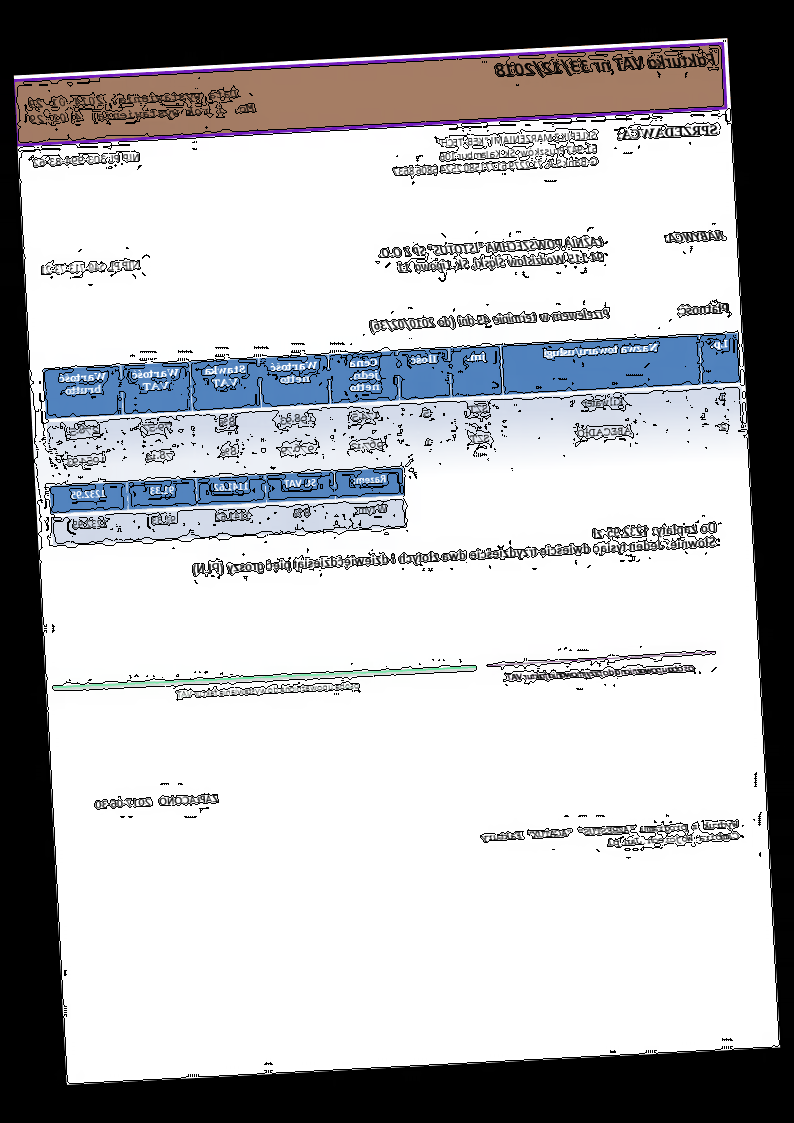Table: (42, 329, 746, 480), (49, 465, 409, 548)
TextBox: (189, 519, 720, 580), (389, 126, 601, 181), (477, 815, 742, 857), (27, 83, 259, 129), (375, 233, 608, 277), (492, 46, 720, 82), (368, 306, 612, 334), (505, 660, 698, 685), (173, 678, 363, 702), (92, 790, 221, 813), (617, 120, 722, 144), (30, 148, 143, 170), (37, 256, 145, 278), (664, 227, 727, 247), (675, 299, 733, 318)
